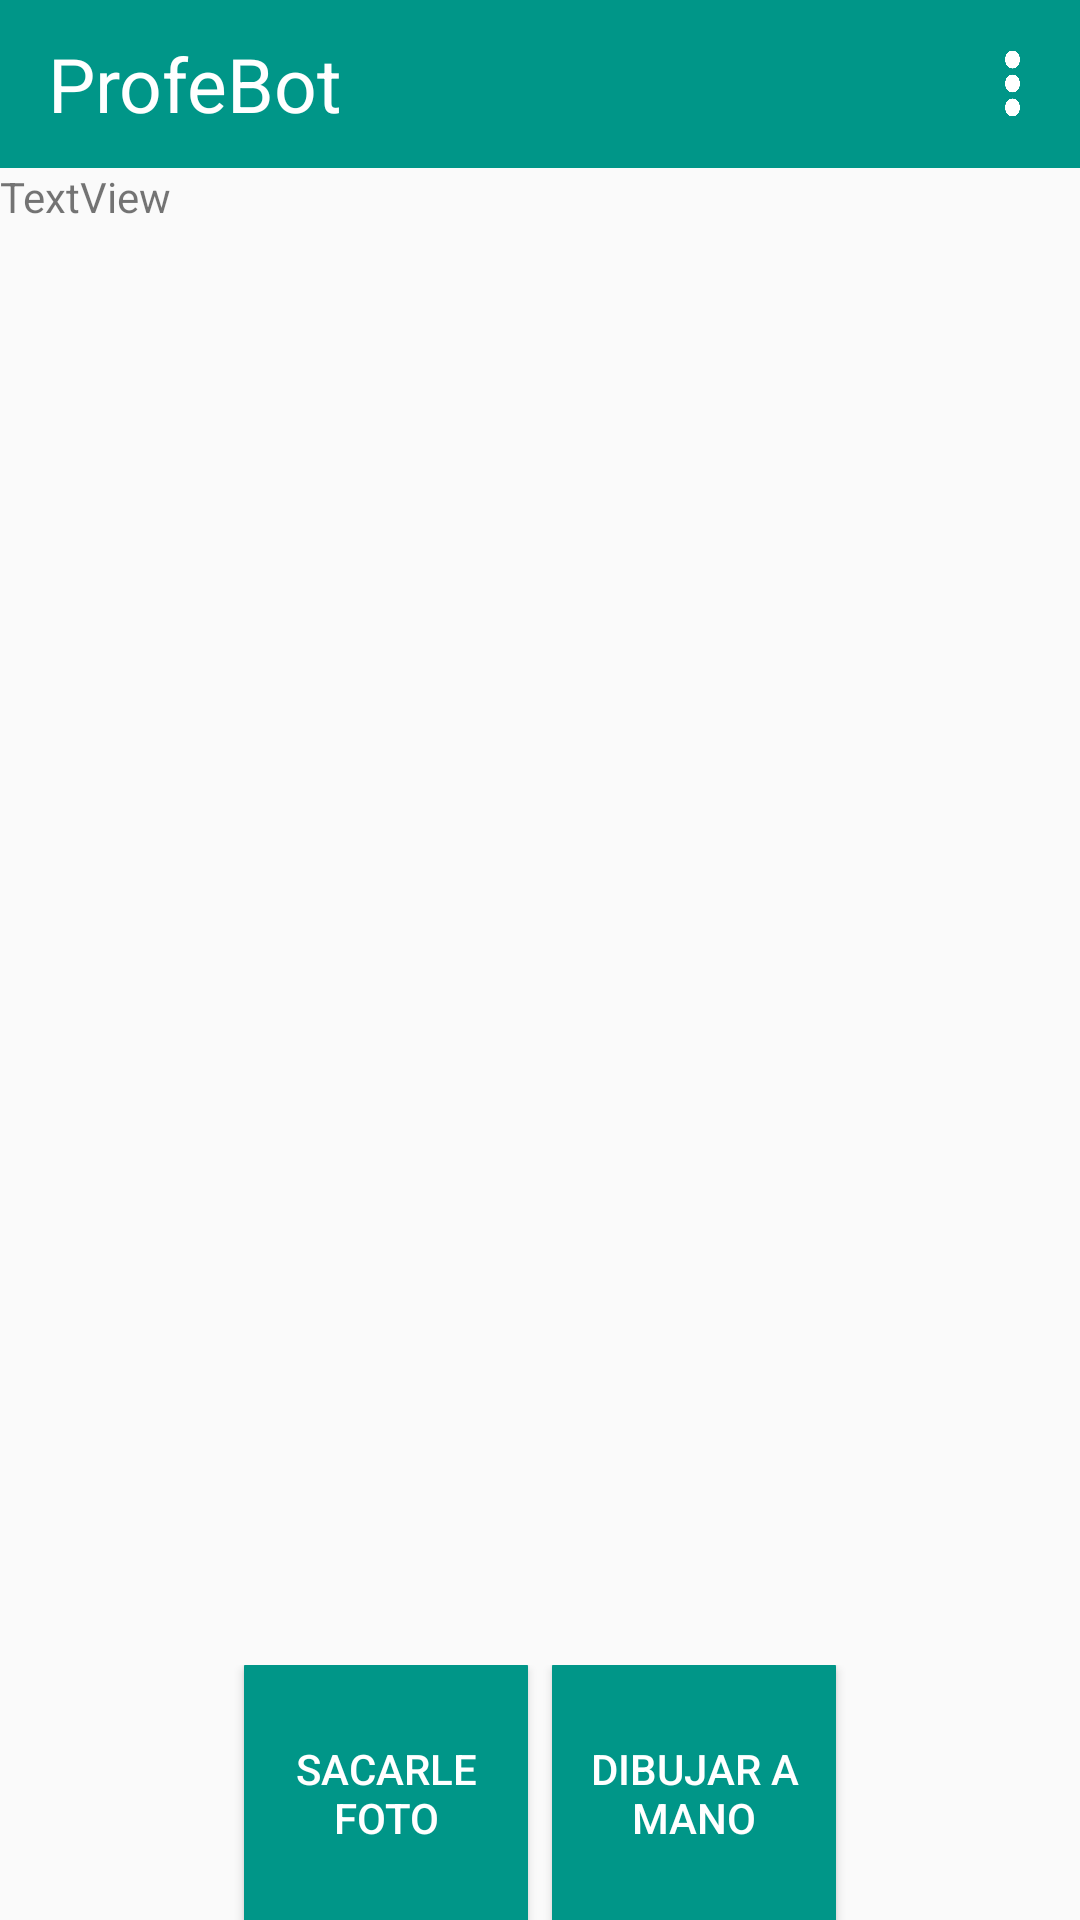

Screen size 1080 × 1920. Icon name, then its box in pixels as {"x1": x1, "y1": y1, "x2": x2, "y2": y2}:
dropdown menu: {"x1": 1005, "y1": 51, "x2": 1020, "y2": 116}
